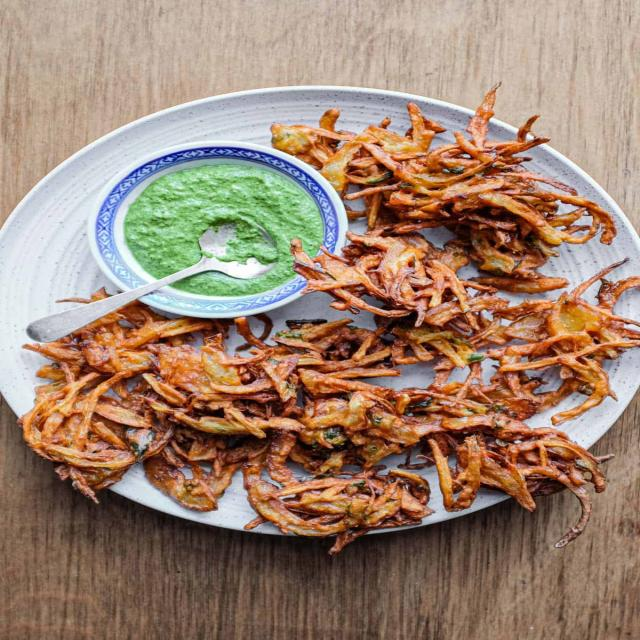BAJI: (13, 106, 639, 546)
